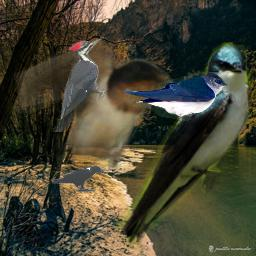Crow: (51, 165, 104, 192)
Swallow: (116, 42, 254, 252), (14, 41, 173, 169), (122, 72, 229, 125)
Woodpecker: (53, 36, 108, 132)
